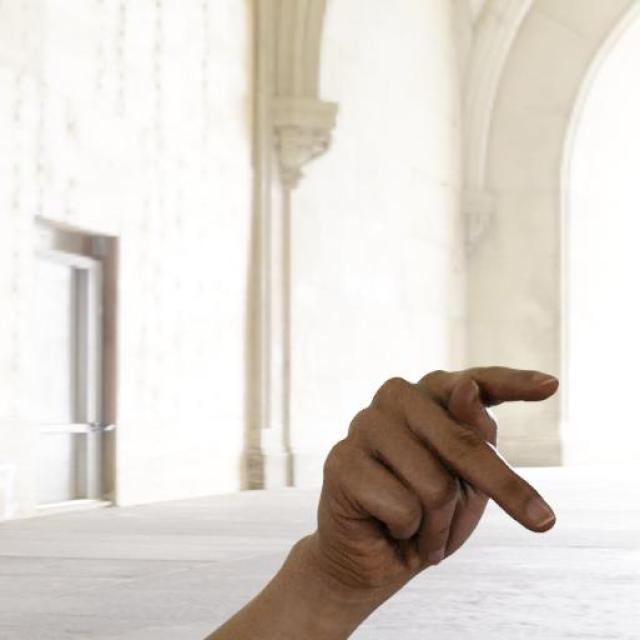P: (316, 368, 558, 582)
